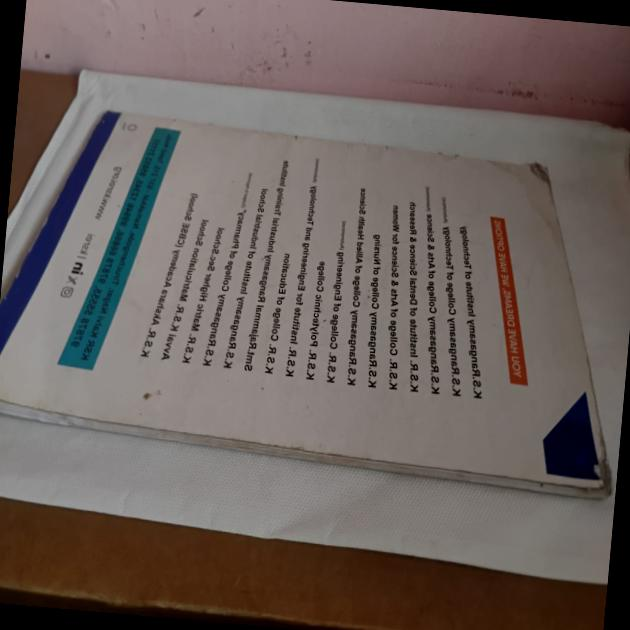notebook: (0, 108, 627, 513)
